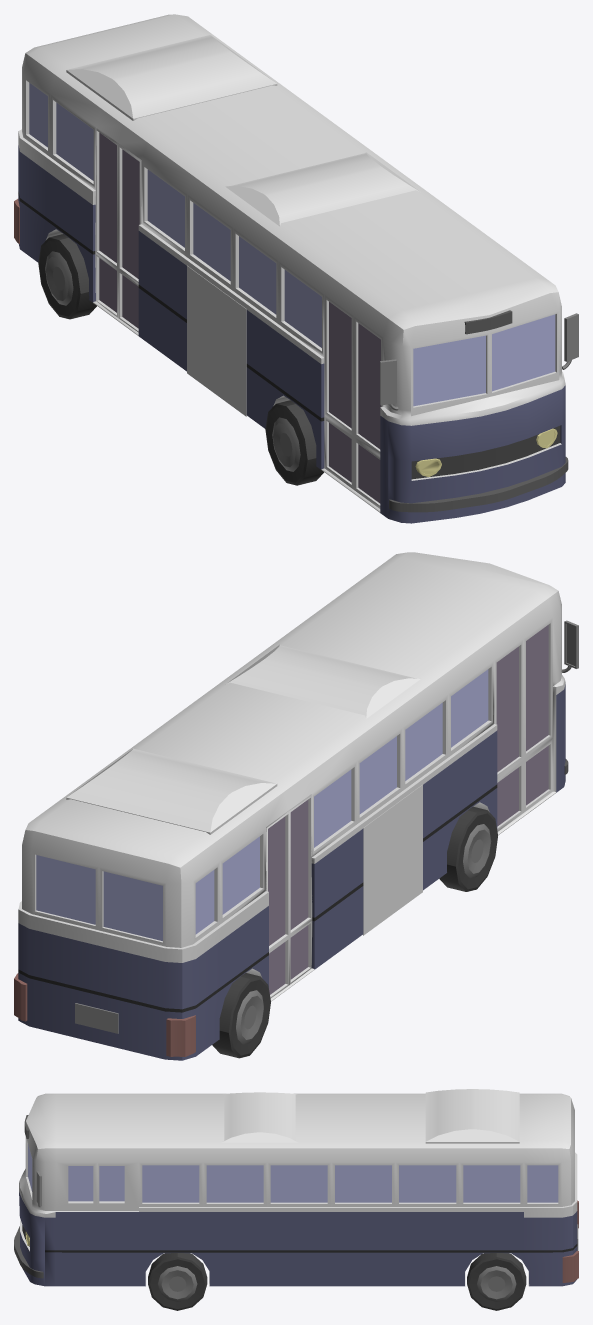
File: Shuttle.fbx
The picture shows the model from 3 angles, top to bottom: view 1: azimuth 30°, elevation 25°; view 2: azimuth 150°, elevation 25°; view 3: azimuth 270°, elevation 25°; orthographic projection. The views are drawn at different scales.
Parts seen in each view (by area): view 1: BUS; view 2: BUS; view 3: BUS.
Boxes of the visible parts, left/top/right/bottom form: BUS: left=14, top=14, right=578, bottom=523; BUS: left=14, top=552, right=578, bottom=1060; BUS: left=14, top=1089, right=578, bottom=1310.
Bounding box in the file's own units: 8.39 × 2.39 × 2.77.
